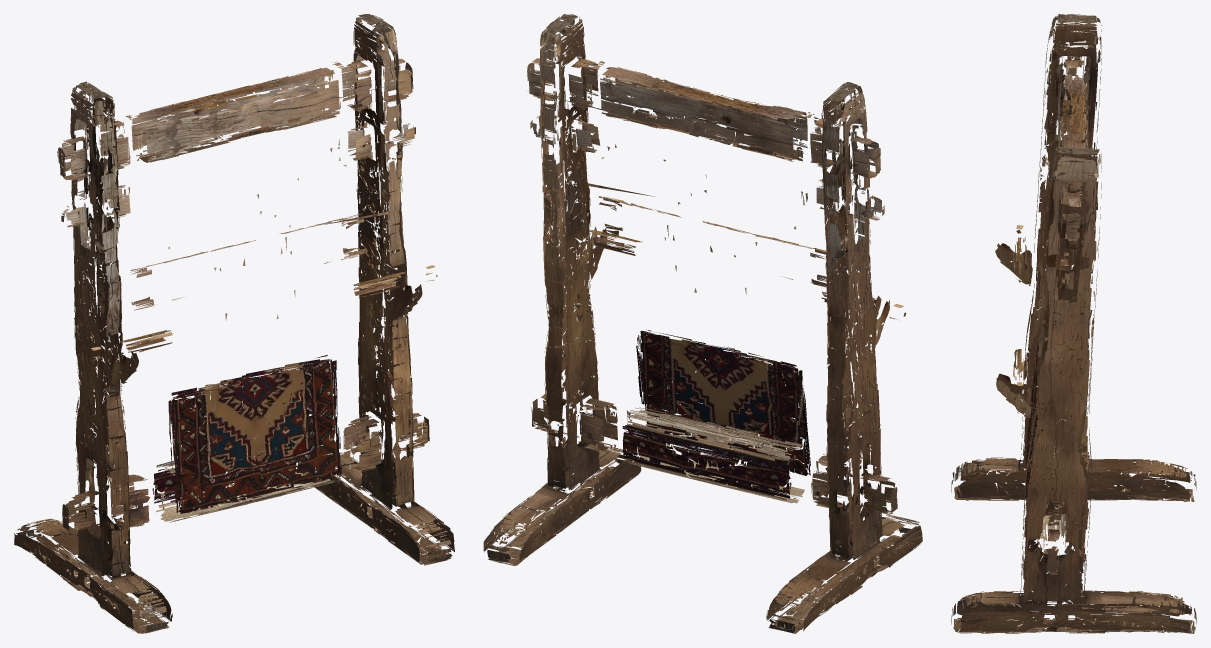
The model's file is a236_kilim_dokuma_tezgahi.glb.
The picture shows the model from 3 angles, left to right: view 1: azimuth 30°, elevation 25°; view 2: azimuth 150°, elevation 25°; view 3: azimuth 270°, elevation 25°; orthographic projection. The views are drawn at different scales.
Parts seen in each view (by area): view 1: Mesh_0; view 2: Mesh_0; view 3: Mesh_0.
Boxes of the visible parts, x1,y1,x2,y2 form: Mesh_0: (14,14,454,633); Mesh_0: (483,14,922,633); Mesh_0: (951,14,1196,633).
Bounding box in the file's own units: 1.45 × 1.91 × 0.8889.
1 material, 1 textured.
